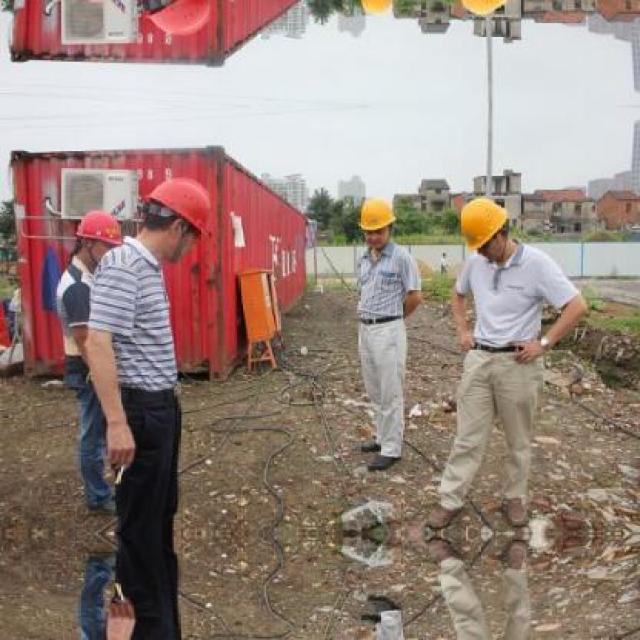helmet: (131, 177, 217, 269), (453, 197, 513, 258), (131, 0, 218, 37), (71, 211, 120, 266), (358, 194, 396, 246), (452, 0, 514, 17), (358, 0, 397, 20)
